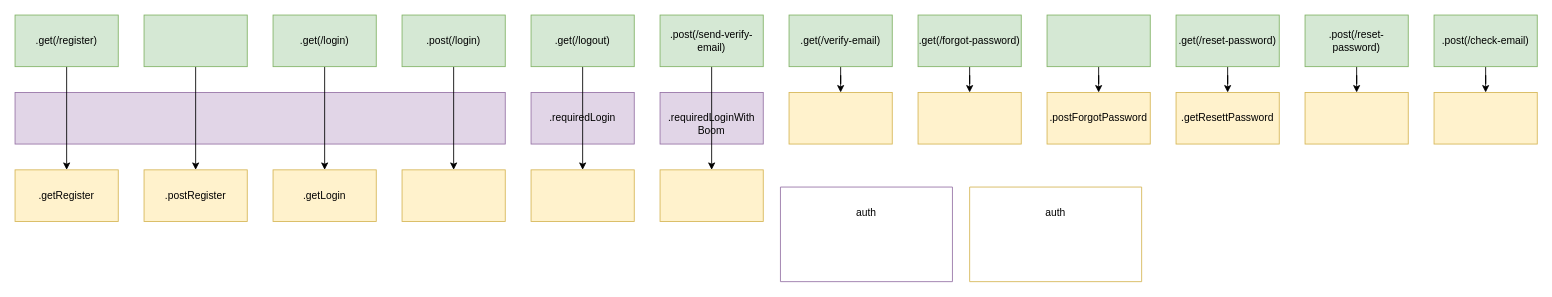
Image size: 1552x297. Some labels were removed from this diagram. Each missing label, with the box of its shape:
.getForgotPassword: (917, 92, 1021, 144)
.getLogout: (530, 169, 634, 221)
.getVerifyEmail: (788, 92, 892, 144)
.notRequiredLogin: (14, 92, 505, 144)
.post(/forgot-password): (1046, 14, 1150, 67)
.post(/register): (143, 14, 247, 67)
.postLogin: (401, 169, 505, 221)
.postResettPassword: (1304, 92, 1408, 144)
.postSendVerifyEmail: (659, 169, 763, 221)
checkEmail: (1433, 92, 1537, 144)
